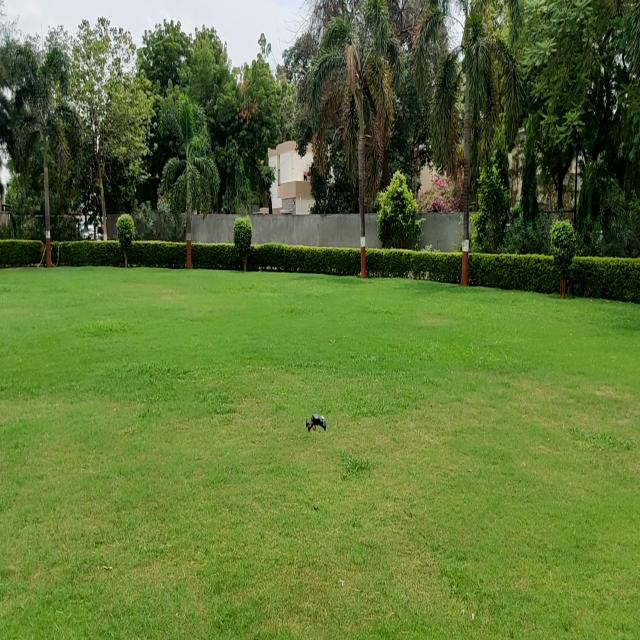drone: (300, 396, 334, 448)
